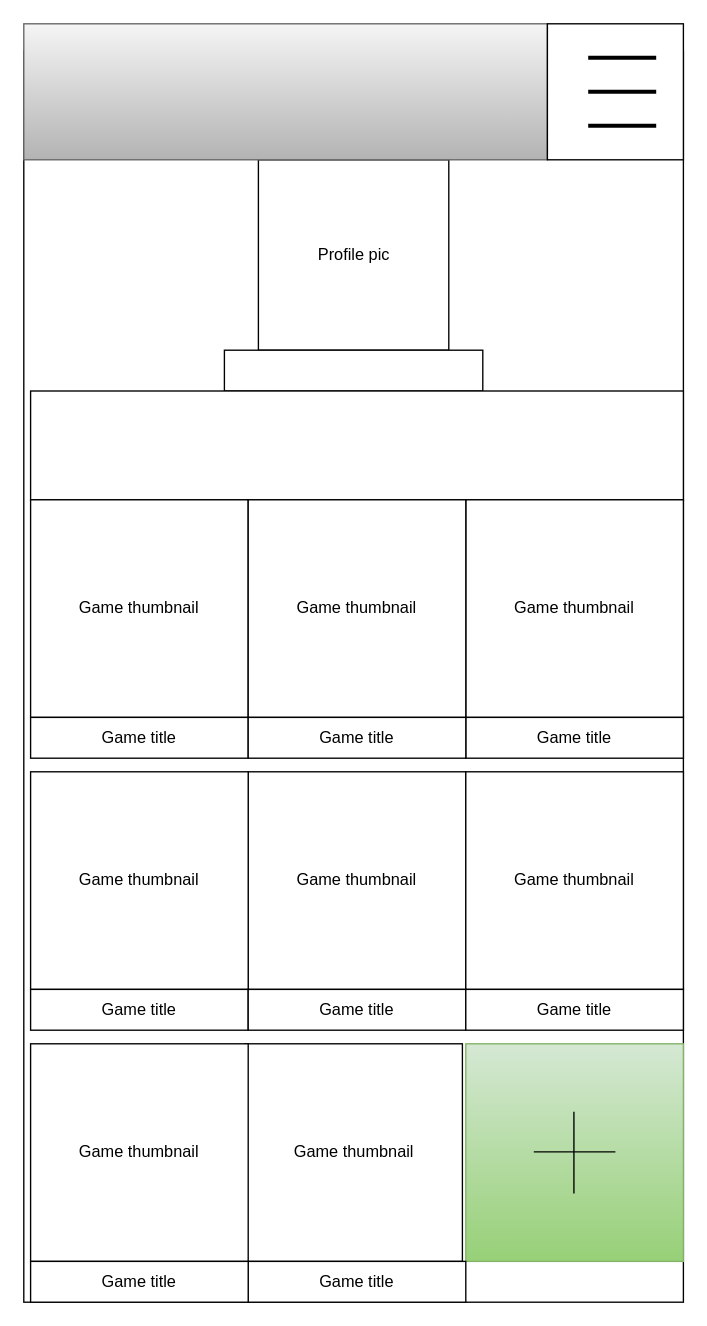
Some shapes in this 707 by 1326 pixel diagram are drawn without their labels. Each missing label, with the centre of its shape:
Lo go: (284,91)
Username: (353,370)
Your games: (356,445)
